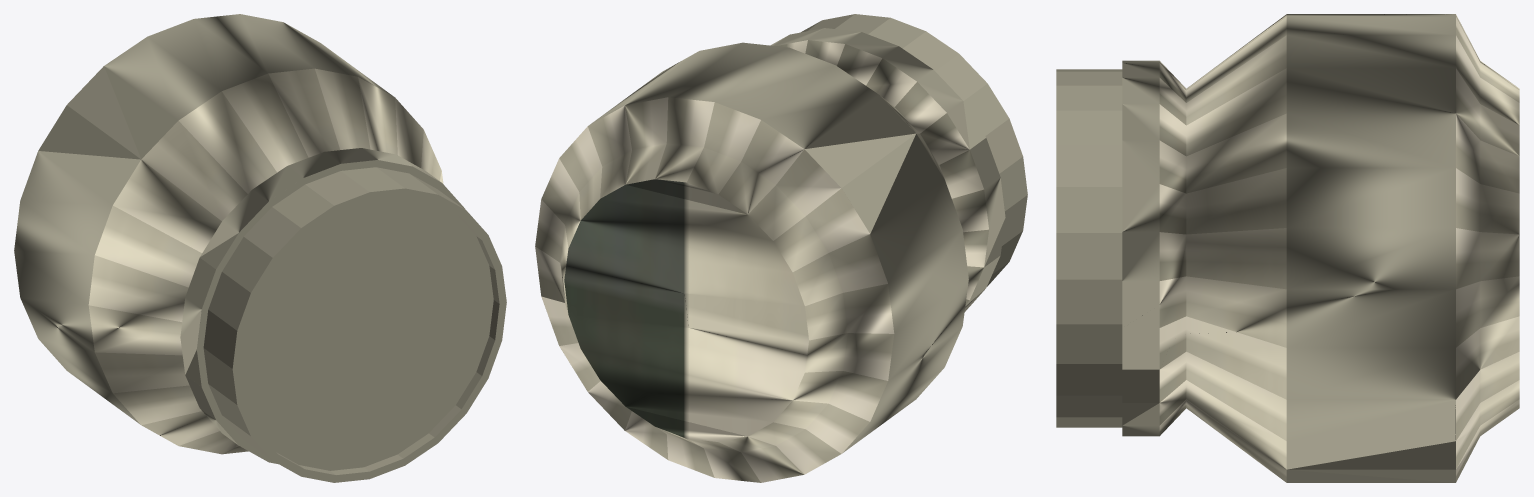
Rendered from model_align.obj.
3 views of the same model, side by side, from view 1: azimuth 30°, elevation 25°; view 2: azimuth 150°, elevation 25°; view 3: azimuth 270°, elevation 25° (orthographic). The views are drawn at different scales.
Bounding box in the file's own units: 0.1557 × 0.1557 × 0.1532.
